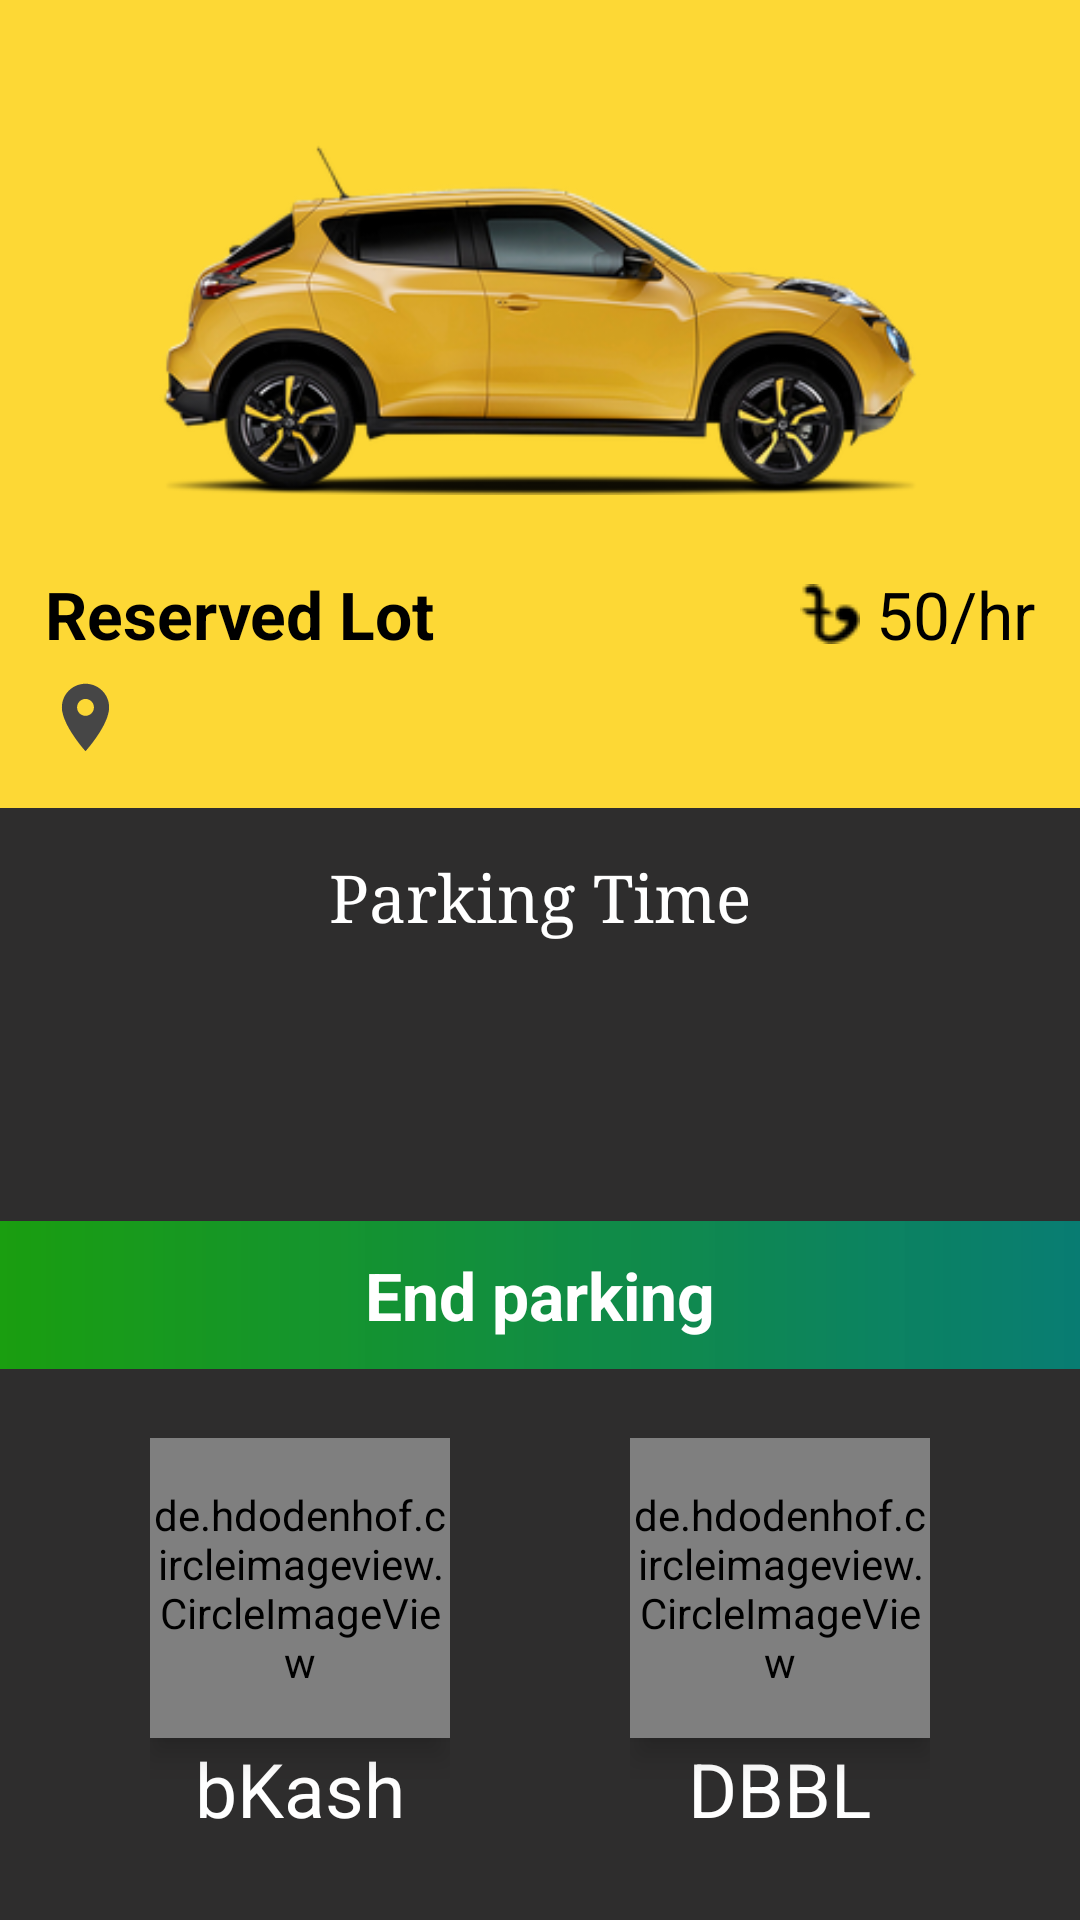

Screen size 1080 × 1920. Icon name, then its center in pixels as point (x, y):
taka: point (830, 614)
